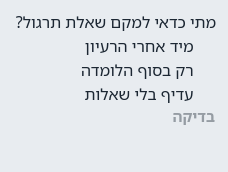
Test case: QuizRenderer — מענה › כפתור הבדיקה מושבת עד שנבחרה תשובה
Check: the button "בדיקה" is disabled, box [171,106,216,126]
Click the radio button labelled "מיד אחרי הרעיון": (139, 46) [85,35,194,57]
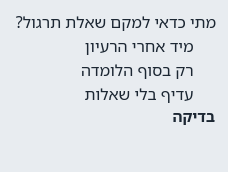
Check: the button "בדיקה" is enabled, box [171,106,216,126]
